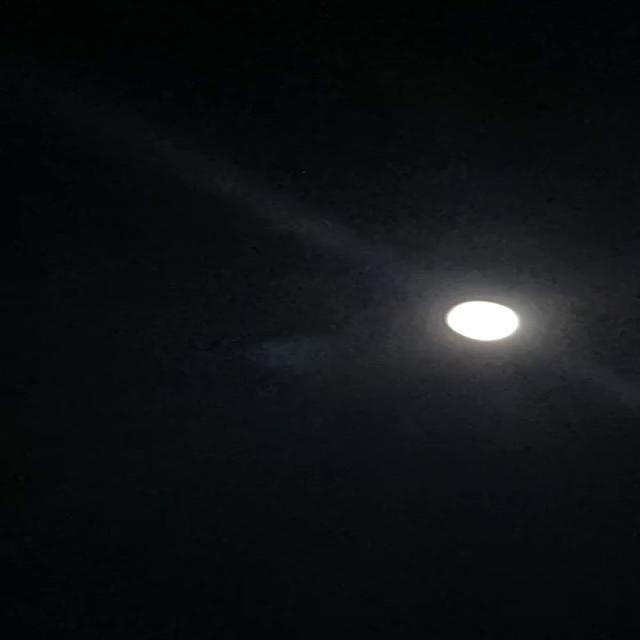moon: (410, 280, 538, 352)
